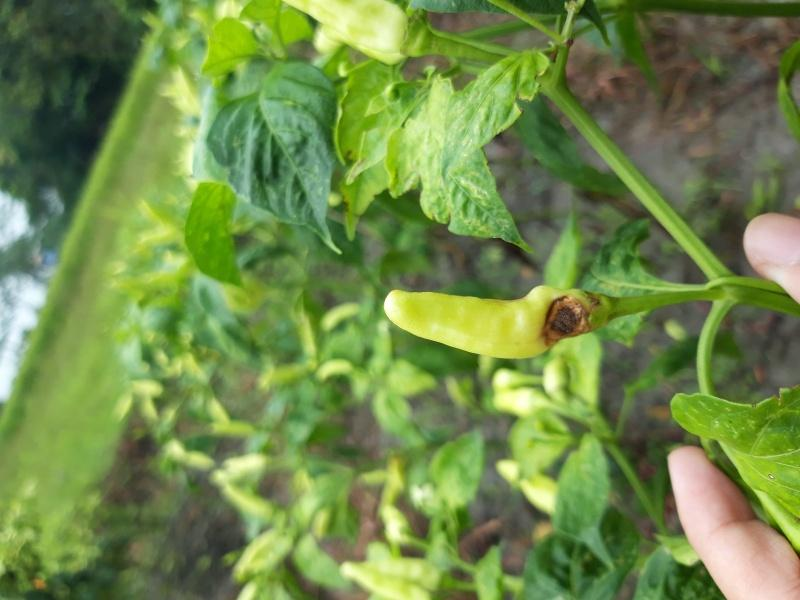antraknosa: (384, 284, 608, 359)
